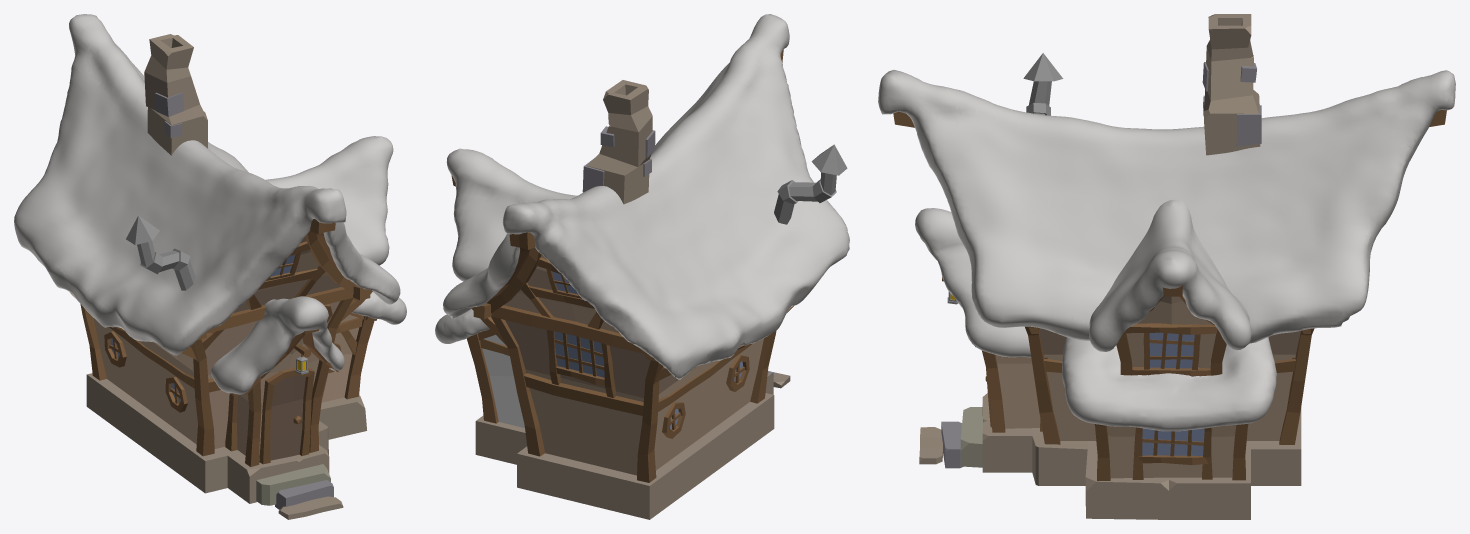
File: House.fbx
The picture shows the model from 3 angles, left to right: view 1: azimuth 30°, elevation 25°; view 2: azimuth 150°, elevation 25°; view 3: azimuth 270°, elevation 25°; orthographic projection. The views are drawn at different scales.
Visible parts, largest first — view 1: House_Snow.001, House Base, House_Wall, House_Snow.002, House_Snow, House_Chimney, House_Door, House_Beam.001, Roof_Vent.001, House_Beam.024, House_Step.001, House_Wall.001 (+13 smaller); view 2: House_Snow.001, House_Wall, House Base, House_Snow.002, House_Chimney, House_Beam.001, Roof_Vent.001, House_Beam, House_Wall.005, House_Beam.004, House_Snow.003, House_Beam.003 (+7 smaller); view 3: House_Snow.001, House Base, House_Snow.003, House_Snow.002, House_Chimney, House_Snow, House_Wall, House_Wall.003, House_Beam.001, House_Wall.001, House_Wall.002, House_Beam.003 (+9 smaller).
Part boxes in pixels (bbox=[...]): House_Snow.001: bbox=[14, 14, 400, 355]; House Base: bbox=[86, 373, 366, 503]; House_Wall: bbox=[93, 237, 341, 448]; House_Snow.002: bbox=[266, 136, 393, 265]; House_Snow: bbox=[211, 296, 344, 394]; House_Chimney: bbox=[144, 34, 207, 155]; House_Door: bbox=[259, 367, 314, 464]; House_Beam.001: bbox=[80, 298, 353, 456]; Roof_Vent.001: bbox=[126, 215, 195, 290]; House_Beam.024: bbox=[245, 359, 329, 466]; House_Step.001: bbox=[256, 464, 330, 505]; House_Wall.001: bbox=[236, 338, 319, 460]; House_Snow.001: bbox=[443, 14, 849, 379]; House_Wall: bbox=[504, 255, 763, 475]; House Base: bbox=[475, 373, 774, 519]; House_Snow.002: bbox=[446, 148, 577, 281]; House_Chimney: bbox=[582, 80, 655, 204]; House_Beam.001: bbox=[491, 316, 776, 482]; Roof_Vent.001: bbox=[774, 144, 847, 224]; House_Beam: bbox=[491, 305, 645, 353]; House_Wall.005: bbox=[482, 334, 524, 427]; House_Beam.004: bbox=[524, 373, 643, 415]; House_Snow.003: bbox=[435, 309, 489, 343]; House_Beam.003: bbox=[466, 333, 498, 423]; House_Snow.001: bbox=[878, 70, 1455, 343]; House Base: bbox=[982, 393, 1301, 519]; House_Snow.003: bbox=[1062, 337, 1276, 431]; House_Snow.002: bbox=[1089, 199, 1251, 351]; House_Chimney: bbox=[1202, 14, 1261, 155]; House_Snow: bbox=[915, 208, 1031, 357]; House_Wall: bbox=[1039, 328, 1300, 440]; House_Wall.003: bbox=[1107, 425, 1236, 478]; House_Beam.001: bbox=[1025, 326, 1314, 444]; House_Wall.001: bbox=[995, 355, 1040, 428]; House_Wall.002: bbox=[1126, 296, 1215, 368]; House_Beam.003: bbox=[1094, 424, 1248, 480].
Size of the model in its own units: 795 by 897 by 1101.
